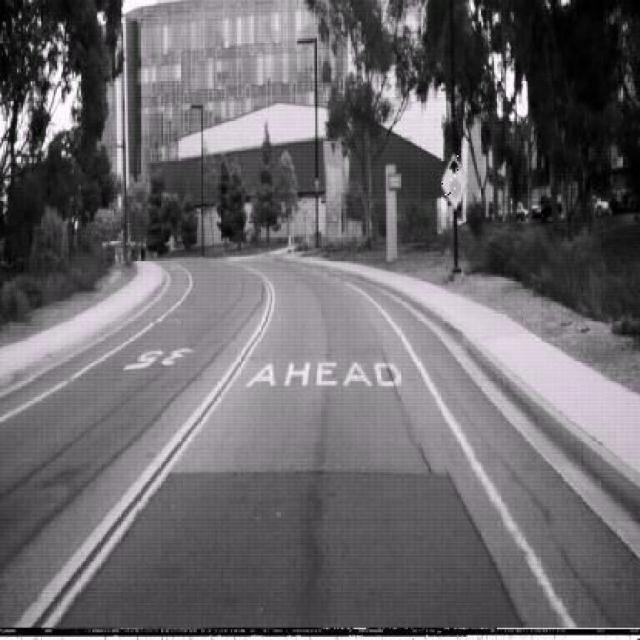stopAhead: (440, 152, 468, 210)
